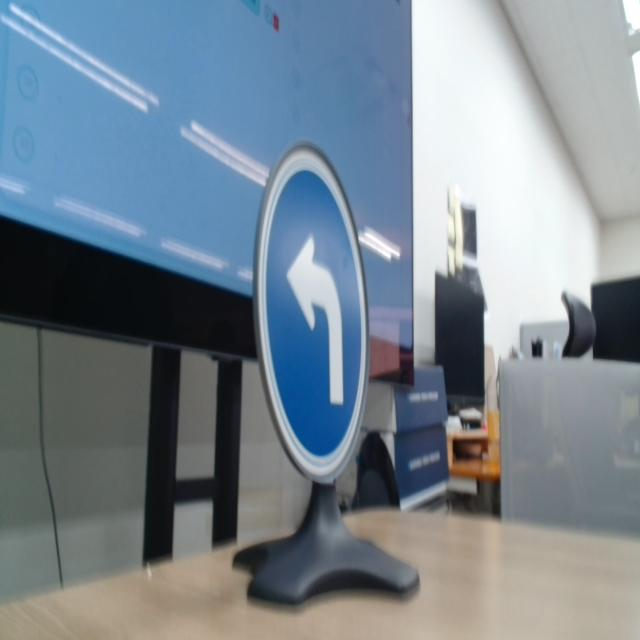left_direction: (247, 133, 398, 482)
